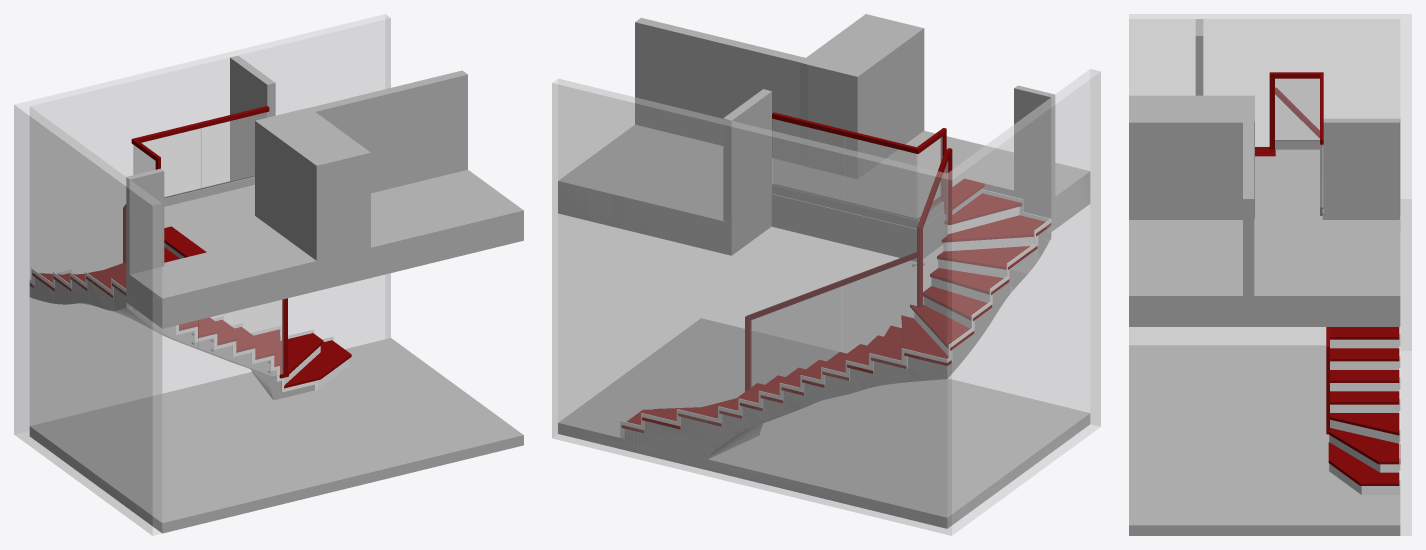
Rendered from лестница со стеклами горки10.obj.
3 views of the same model, side by side, from view 1: azimuth 30°, elevation 25°; view 2: azimuth 150°, elevation 25°; view 3: azimuth 270°, elevation 25° (orthographic). The views are drawn at different scales.
Size of the model in its own units: 5.65 by 4.8 by 3.65.
